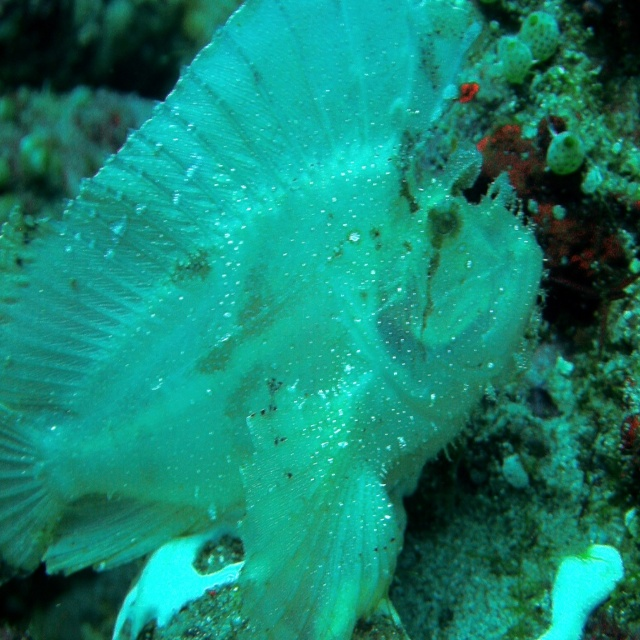Fish: (6, 20, 561, 640)
